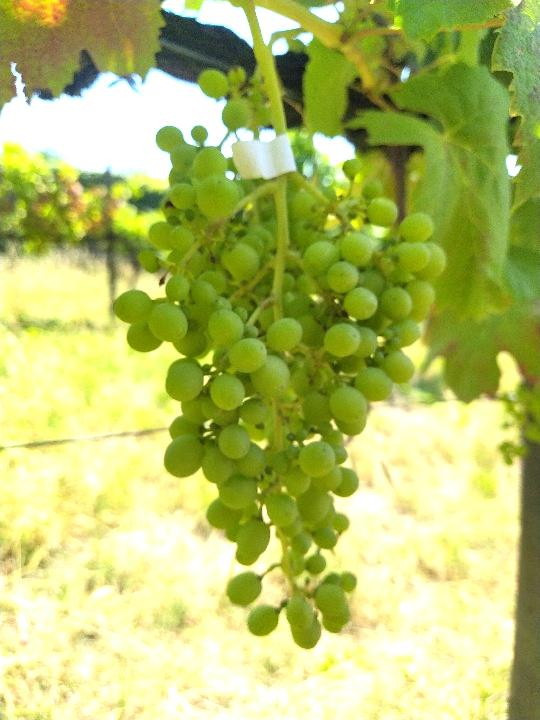grape: (106, 123, 452, 654)
